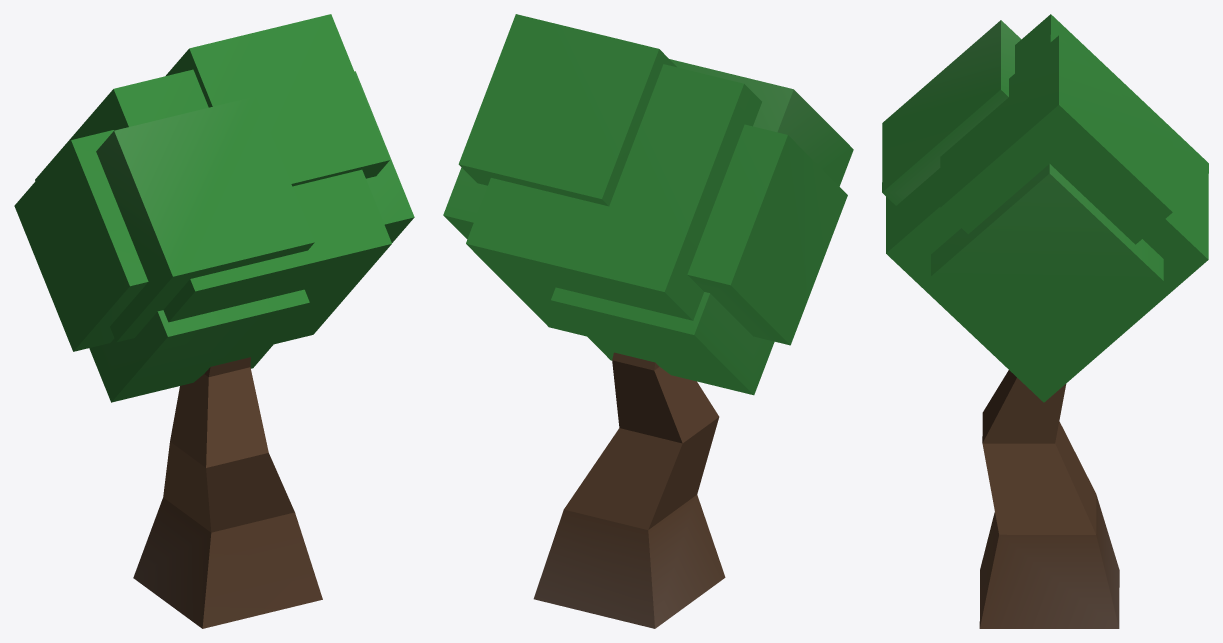
The model's file is tree_03_v1.gltf.
The picture shows the model from 3 angles, left to right: view 1: azimuth 30°, elevation 25°; view 2: azimuth 150°, elevation 25°; view 3: azimuth 270°, elevation 25°; orthographic projection.
Parts seen in each view (by area): view 1: Tree_03; view 2: Tree_03; view 3: Tree_03.
Part boxes in pixels (x1,y1,x2,y2): Tree_03: (14,14,414,628); Tree_03: (443,14,853,628); Tree_03: (882,14,1208,628).
Bounding box in the file's own units: 1.57 × 2.88 × 1.56.
